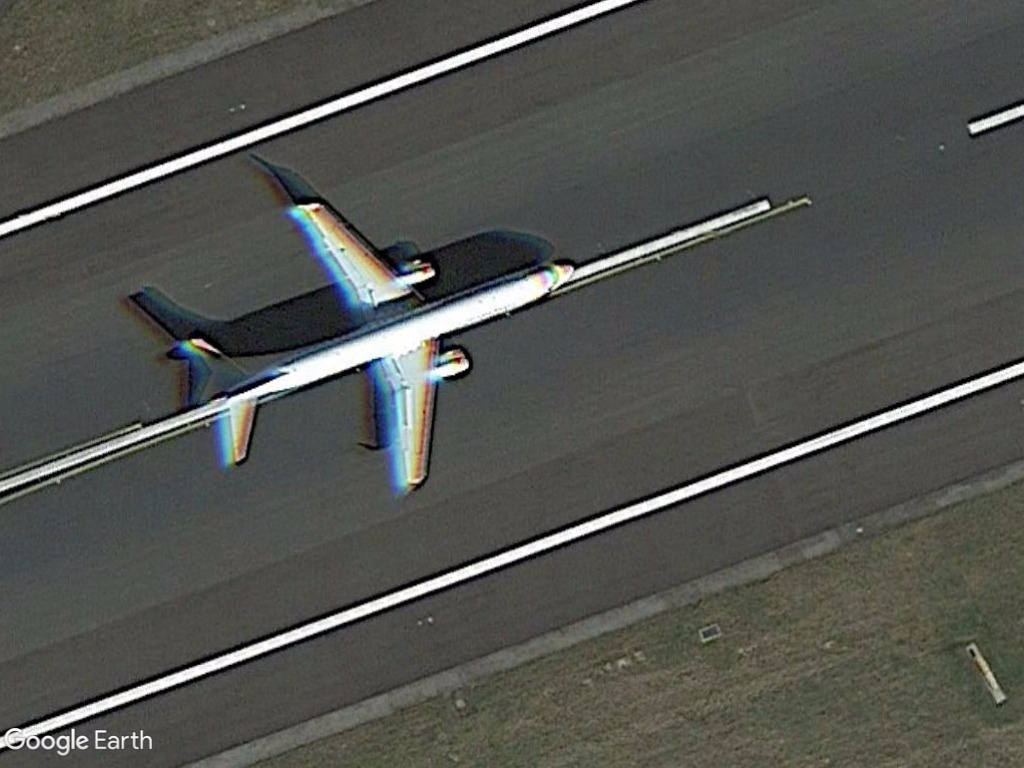airliner: (119, 192, 607, 502)
